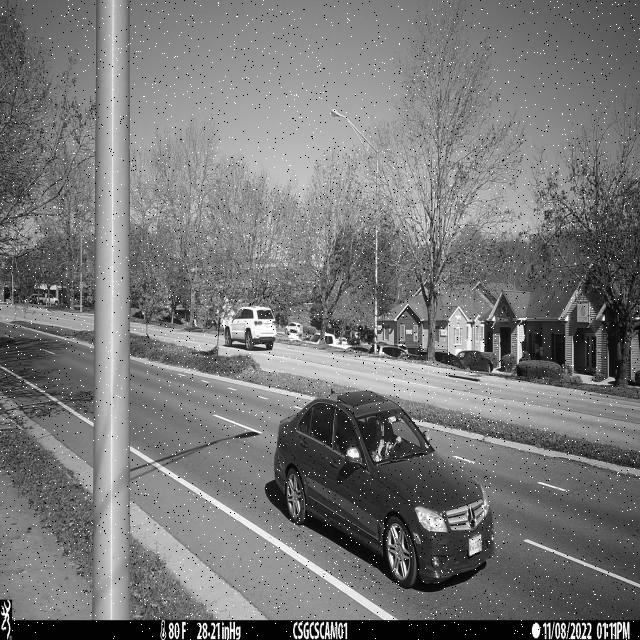Sedan: (273, 390, 498, 590)
